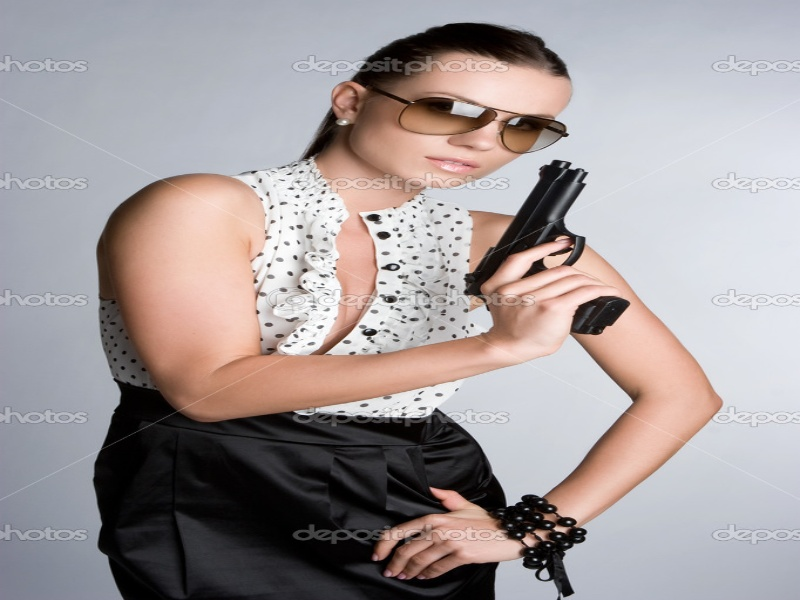gun: (479, 158, 623, 343)
